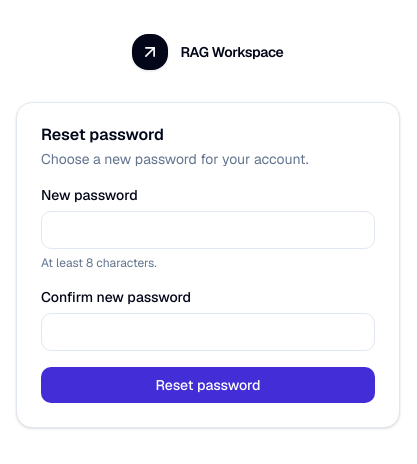
Test case: ResetPasswordPage › shows the backend's error message for an invalid/expired/used token
Type "a brand new password" into the password field labelled "New password" at (208, 230), box [41,211,375,249]
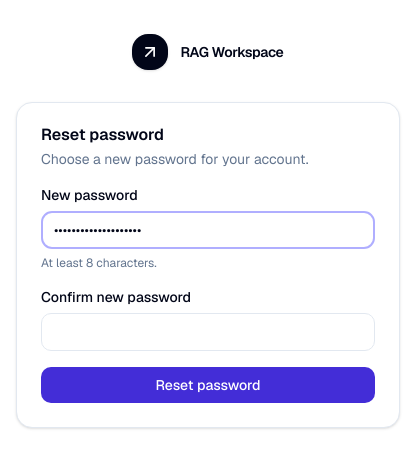
Type "a brand new password" into the password field labelled "Confirm new password" at (208, 332), box [41,313,375,351]
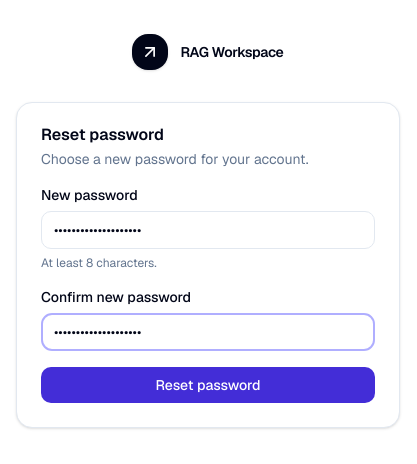
Click the button "Reset password" at (208, 385), box [41,367,375,403]
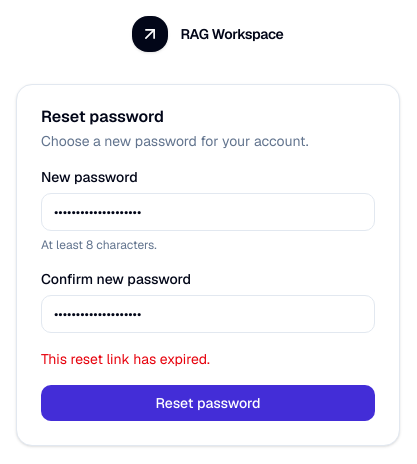
Now the text "This reset link has expired." is shown, box [41,350,210,368]
